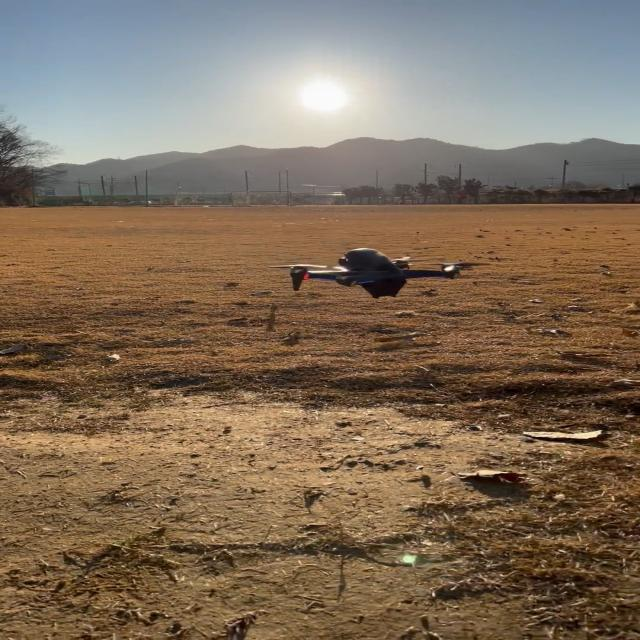Drone: (292, 249, 465, 300)
